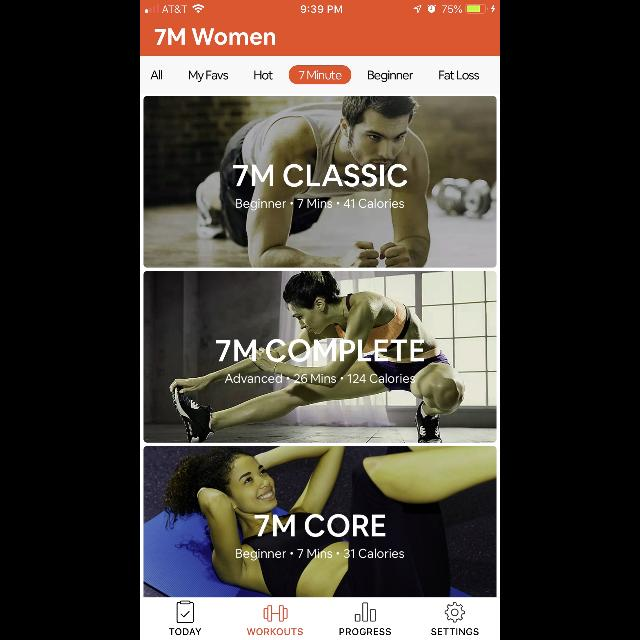icon: (354, 602, 376, 622), (445, 602, 465, 622), (178, 601, 195, 623)
image: (144, 96, 496, 268), (144, 272, 496, 442), (144, 447, 496, 598), (264, 604, 288, 622)
text: (216, 339, 424, 363), (233, 165, 407, 188), (255, 513, 385, 537), (154, 28, 276, 46), (236, 548, 404, 560), (236, 199, 404, 211), (225, 373, 415, 383), (368, 71, 414, 83), (190, 71, 228, 83), (247, 628, 303, 636), (339, 628, 391, 636), (439, 70, 479, 80), (432, 628, 478, 634), (169, 628, 201, 636), (255, 70, 273, 80), (151, 70, 163, 80)
textbutton: (288, 66, 352, 84)
uppertaskbar: (140, 0, 500, 14)
